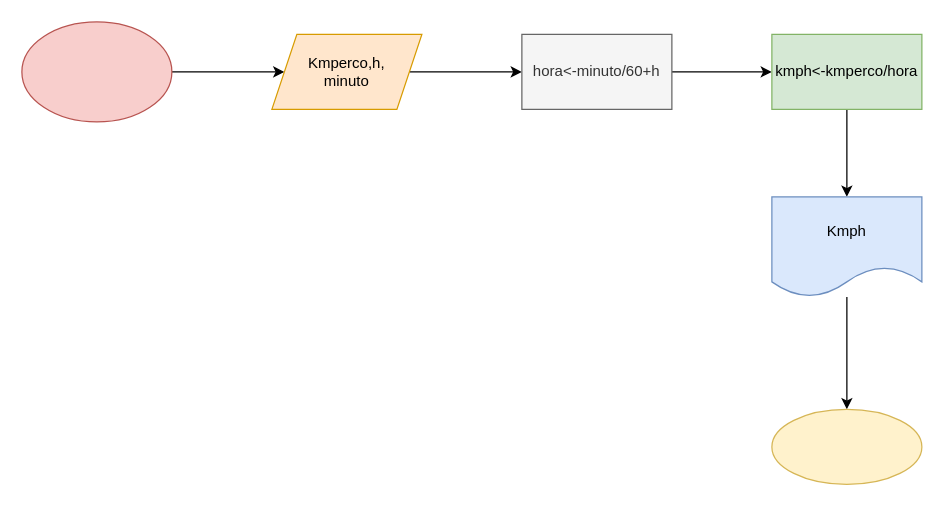
Image size: 944x506. Some labels were removed from this diagram. Each missing label, with the centre of its shape:
"fim" goes at pixel 846 446.
"Início" goes at pixel 96 71.
